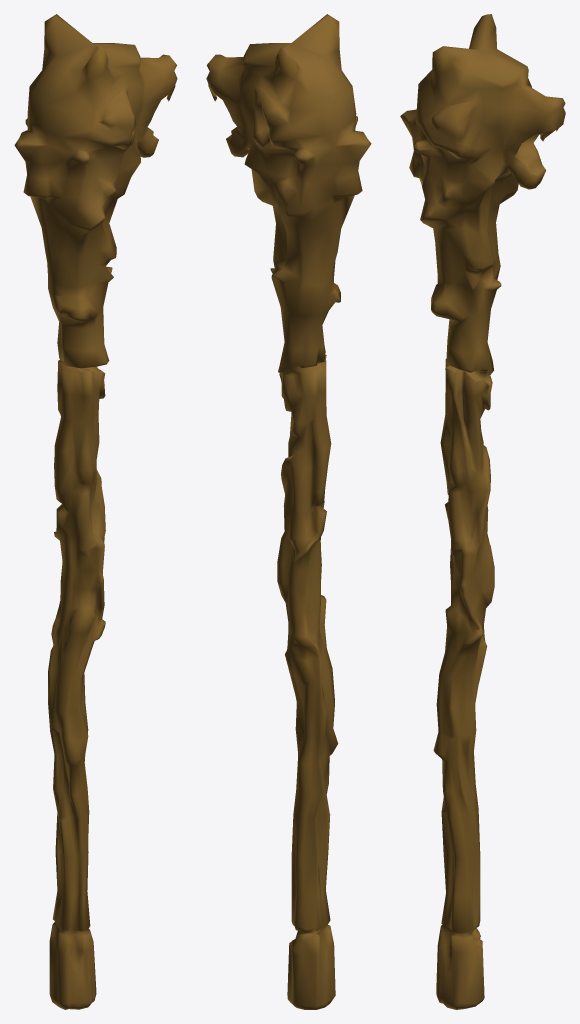
The model's file is wolfsong_staff.glb.
The picture shows the model from 3 angles, left to right: view 1: azimuth 30°, elevation 25°; view 2: azimuth 150°, elevation 25°; view 3: azimuth 330°, elevation 25°; orthographic projection.
Parts seen in each view (by area): view 1: base_model_path; view 2: base_model_path; view 3: base_model_path.
Boxes of the visible parts, x1,y1,x2,y2 form: base_model_path: (14, 14, 177, 1009); base_model_path: (206, 14, 371, 1009); base_model_path: (400, 14, 565, 1009).
Bounding box in the file's own units: 0.1703 × 1 × 0.1233.
1 material, 1 textured.
